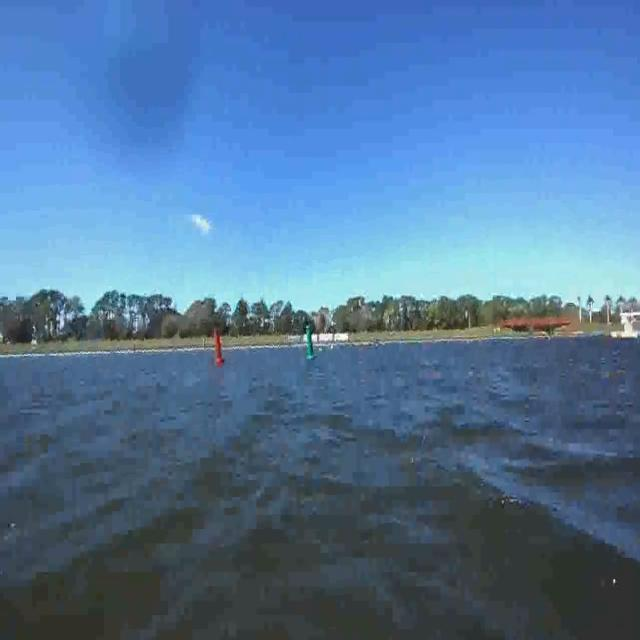green-column-buoy: (303, 327, 314, 362)
red-column-buoy: (214, 332, 225, 367)
